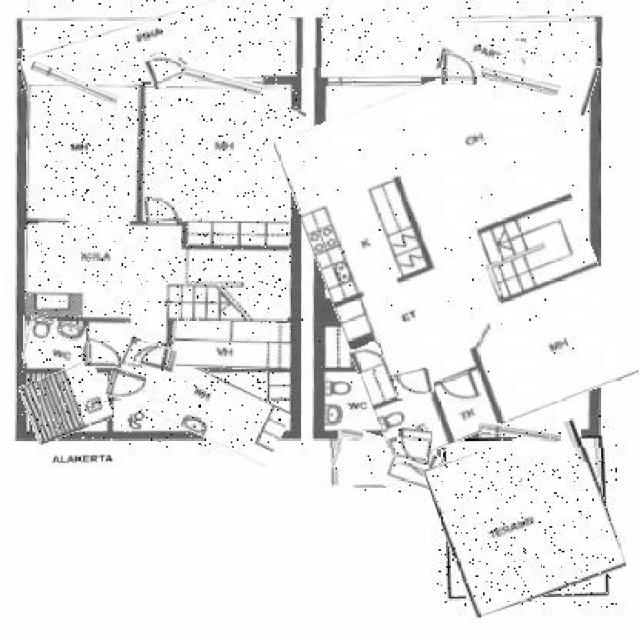door: (145, 51, 183, 88), (106, 369, 145, 403), (396, 428, 432, 464), (132, 343, 177, 371), (443, 52, 477, 85), (395, 369, 434, 397), (352, 343, 383, 372), (85, 343, 122, 366), (146, 199, 180, 223)
window: (31, 71, 120, 95), (478, 71, 560, 91), (182, 71, 262, 91), (480, 425, 560, 440), (332, 77, 422, 86), (340, 431, 363, 440)
zone: (302, 68, 616, 448), (24, 86, 290, 366), (434, 429, 617, 608), (322, 1, 600, 96), (18, 0, 292, 95), (134, 74, 298, 231), (109, 354, 289, 448), (334, 432, 443, 492), (22, 366, 109, 439), (174, 322, 289, 369), (386, 368, 440, 432), (326, 374, 382, 429), (24, 320, 84, 369)
